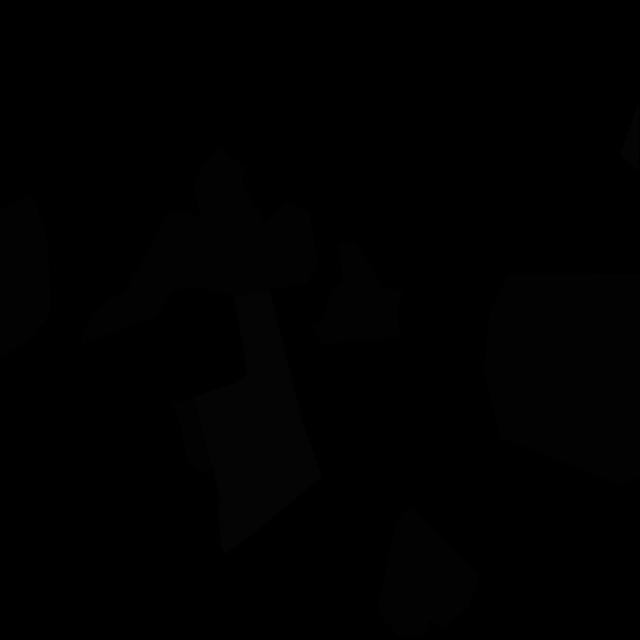cardboard: (484, 273, 640, 486), (81, 209, 244, 344), (193, 147, 318, 294), (377, 508, 479, 639), (310, 241, 403, 345), (0, 195, 52, 358), (171, 398, 212, 473)
soft_plastic: (194, 291, 322, 554), (620, 99, 640, 172)
